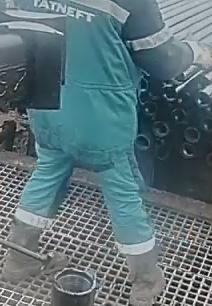gloves: (182, 38, 212, 70)
vest: (19, 0, 141, 147)
